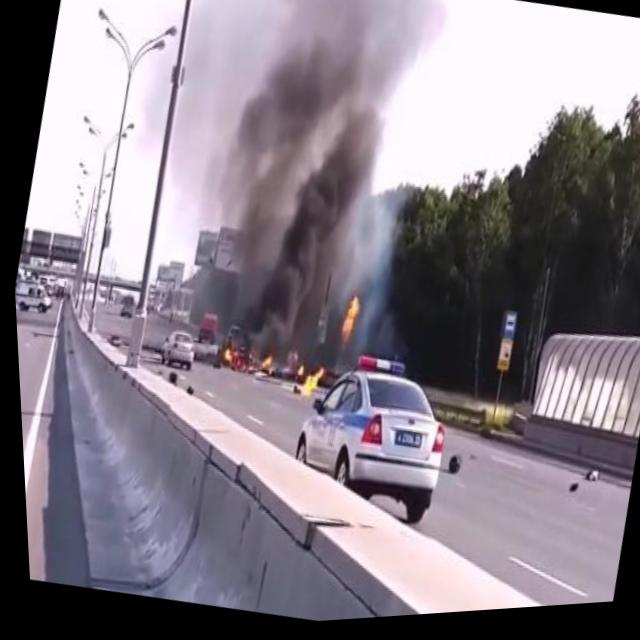fire: (213, 341, 277, 383), (329, 293, 366, 354), (285, 363, 326, 404)
